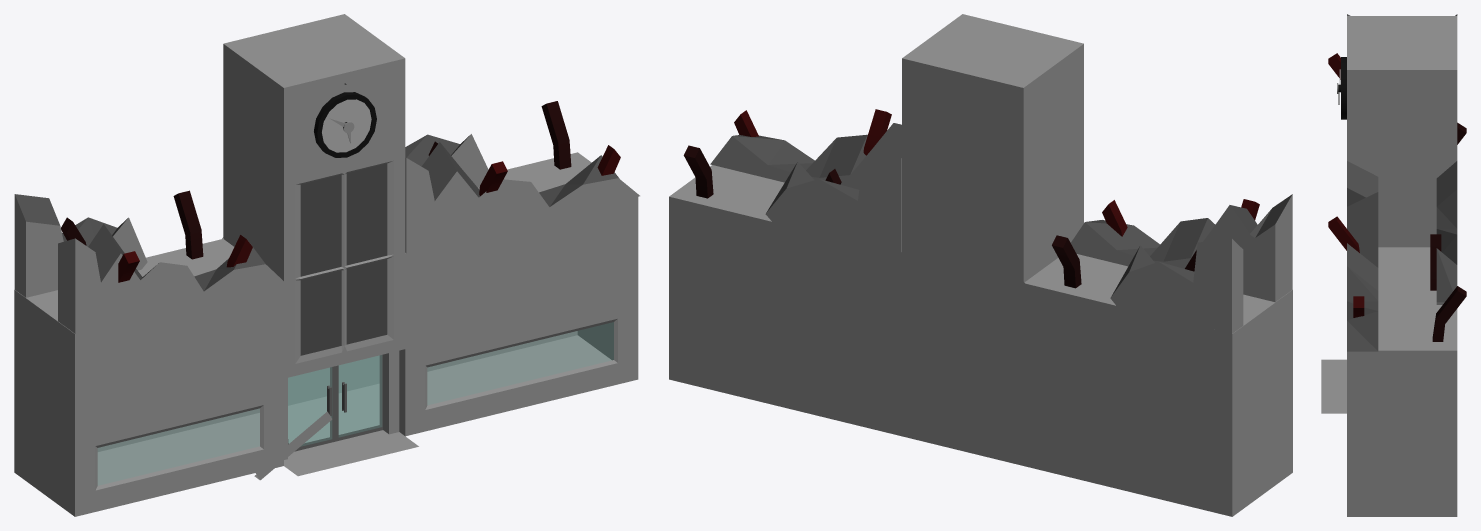
Rendered from school@out_open_s.FBX.
The picture shows the model from 3 angles, left to right: view 1: azimuth 30°, elevation 25°; view 2: azimuth 150°, elevation 25°; view 3: azimuth 270°, elevation 25°; orthographic projection. The views are drawn at different scales.
Parts seen in each view (by area): view 1: Box001, Object004, Object003; view 2: Object004, Box001; view 3: Box001.
Part boxes in pixels (x1=…): Box001: x1=14, y1=14, x2=639, y2=516; Object004: x1=97, y1=331, x2=577, y2=451; Object003: x1=335, y1=354, x2=382, y2=441; Object004: x1=669, y1=196, x2=1232, y2=516; Box001: x1=669, y1=14, x2=1292, y2=516; Box001: x1=1321, y1=14, x2=1466, y2=516.
Size of the model in its own units: 113 by 75.25 by 27.71.
